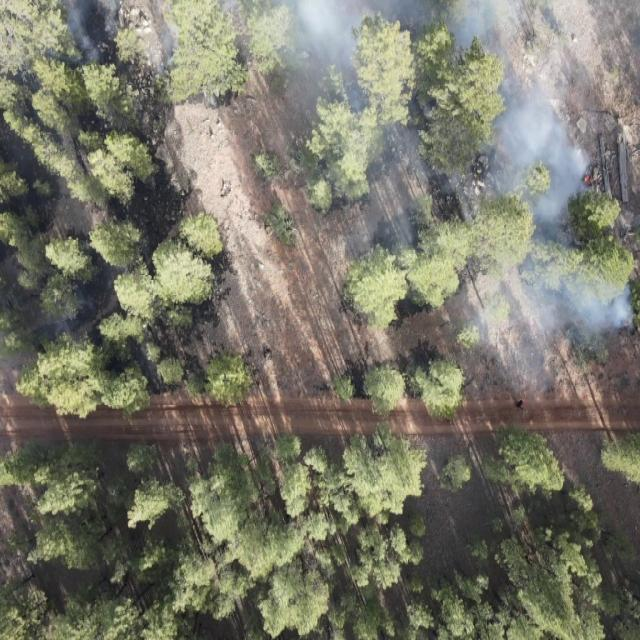fire: (582, 172, 595, 188)
smoke: (0, 0, 640, 89), (262, 90, 601, 234), (348, 232, 640, 304), (455, 304, 640, 340), (491, 340, 566, 398), (38, 287, 95, 342)
